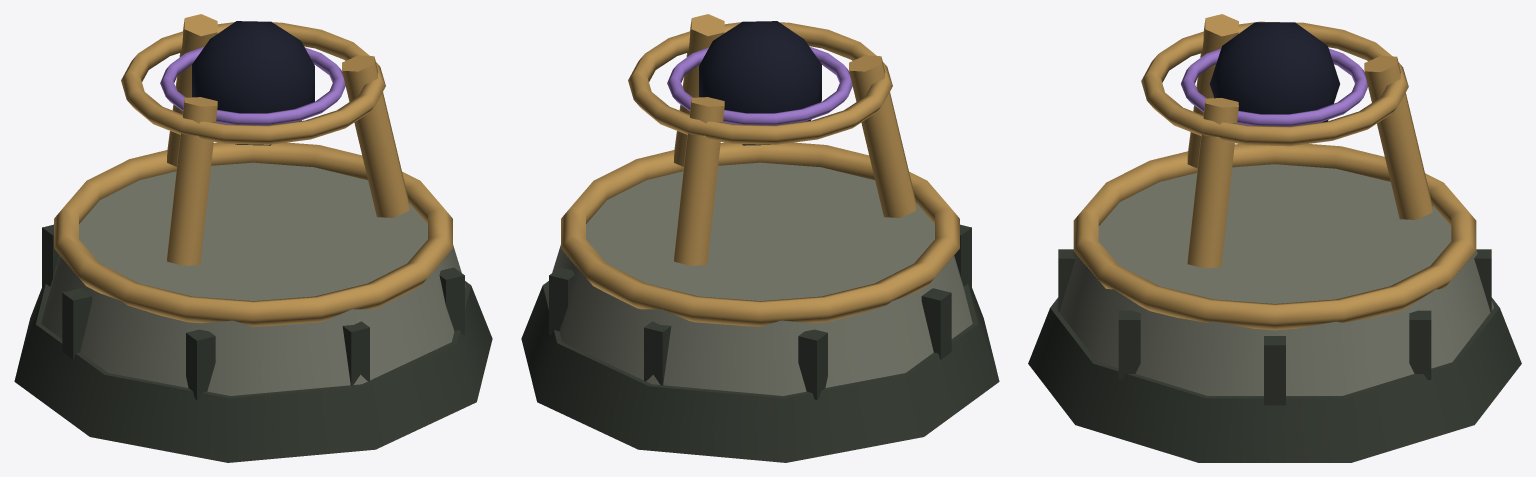
The model's file is tower_gravity.glb.
The picture shows the model from 3 angles, left to right: view 1: azimuth 30°, elevation 25°; view 2: azimuth 150°, elevation 25°; view 3: azimuth 270°, elevation 25°; orthographic projection.
Visible parts, largest first — view 1: stone_1, foot_0, rim_2, black_hole_11, orbit_16, claw_14, claw_13, accretion_15, claw_12, mortar_6, mortar_7, mortar_5 (+2 smaller); view 2: stone_1, foot_0, rim_2, black_hole_11, orbit_16, claw_12, claw_14, accretion_15, claw_13, mortar_8, mortar_7, mortar_9 (+2 smaller); view 3: stone_1, foot_0, rim_2, black_hole_11, orbit_16, claw_13, claw_12, accretion_15, claw_14, mortar_3, mortar_4, mortar_10 (+2 smaller).
Boxes of the visible parts, x1=… form: stone_1: x1=41, y1=162, x2=465, y2=395; foot_0: x1=14, y1=281, x2=492, y2=462; rim_2: x1=54, y1=142, x2=452, y2=326; black_hole_11: x1=192, y1=21, x2=314, y2=145; orbit_16: x1=121, y1=22, x2=385, y2=144; claw_14: x1=167, y1=97, x2=217, y2=265; claw_13: x1=342, y1=55, x2=409, y2=217; accretion_15: x1=160, y1=46, x2=345, y2=125; claw_12: x1=167, y1=14, x2=217, y2=166; mortar_6: x1=186, y1=329, x2=215, y2=399; mortar_7: x1=62, y1=288, x2=92, y2=359; mortar_5: x1=342, y1=321, x2=369, y2=385; stone_1: x1=548, y1=162, x2=972, y2=395; foot_0: x1=521, y1=281, x2=999, y2=462; rim_2: x1=561, y1=142, x2=959, y2=326; black_hole_11: x1=699, y1=21, x2=821, y2=145; orbit_16: x1=628, y1=22, x2=892, y2=144; claw_12: x1=674, y1=97, x2=724, y2=265; claw_14: x1=849, y1=55, x2=916, y2=217; accretion_15: x1=667, y1=46, x2=852, y2=125; claw_13: x1=674, y1=14, x2=724, y2=166; mortar_8: x1=798, y1=329, x2=827, y2=399; mortar_7: x1=921, y1=288, x2=951, y2=359; mortar_9: x1=644, y1=321, x2=671, y2=385; stone_1: x1=1056, y1=164, x2=1493, y2=395; foot_0: x1=1028, y1=297, x2=1521, y2=462; rim_2: x1=1073, y1=144, x2=1476, y2=330; black_hole_11: x1=1210, y1=22, x2=1339, y2=122; orbit_16: x1=1141, y1=21, x2=1408, y2=146; claw_13: x1=1187, y1=98, x2=1238, y2=268; claw_12: x1=1364, y1=56, x2=1432, y2=219; accretion_15: x1=1181, y1=48, x2=1367, y2=126; claw_14: x1=1187, y1=14, x2=1238, y2=168; mortar_3: x1=1264, y1=336, x2=1285, y2=405; mortar_4: x1=1118, y1=310, x2=1140, y2=379; mortar_10: x1=1409, y1=310, x2=1431, y2=379.
Bounding box in the file's own units: 0.5326 × 0.424 × 0.56.
